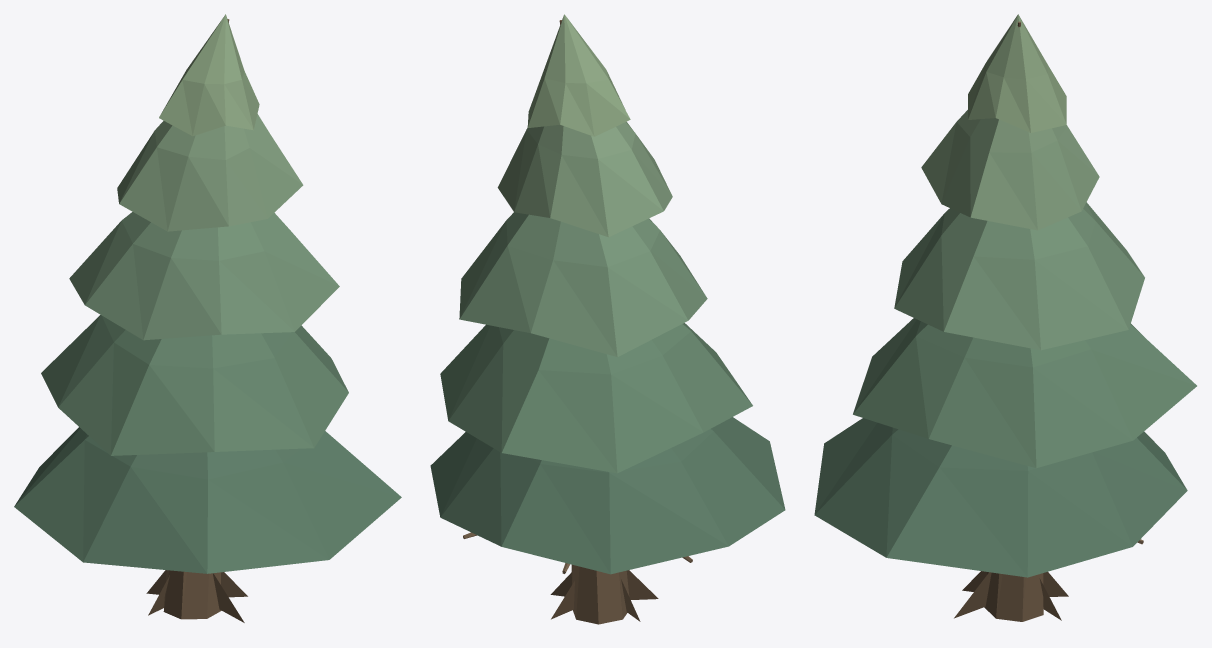
The model's file is pine_2.glb.
3 views of the same model, side by side, from view 1: azimuth 30°, elevation 25°; view 2: azimuth 150°, elevation 25°; view 3: azimuth 270°, elevation 25° (orthographic). The views are drawn at different scales.
Parts seen in each view (by area): view 1: foliage-0, foliage-1, foliage-2, surface; view 2: foliage-0, foliage-1, foliage-2, surface; view 3: foliage-0, foliage-1, foliage-2, surface.
Part boxes in pixels (x1,y1,x2,y2): foliage-0: (14, 114, 401, 573); foliage-1: (41, 14, 348, 455); foliage-2: (69, 212, 339, 340); surface: (146, 19, 247, 622); foliage-0: (430, 122, 785, 574); foliage-1: (440, 14, 752, 473); foliage-2: (459, 212, 707, 356); surface: (463, 20, 692, 624); foliage-0: (814, 110, 1187, 577); foliage-1: (853, 14, 1196, 468); foliage-2: (894, 202, 1144, 350); surface: (954, 21, 1143, 621).
Bounding box in the file's own units: 3.68 × 6.52 × 3.69.
